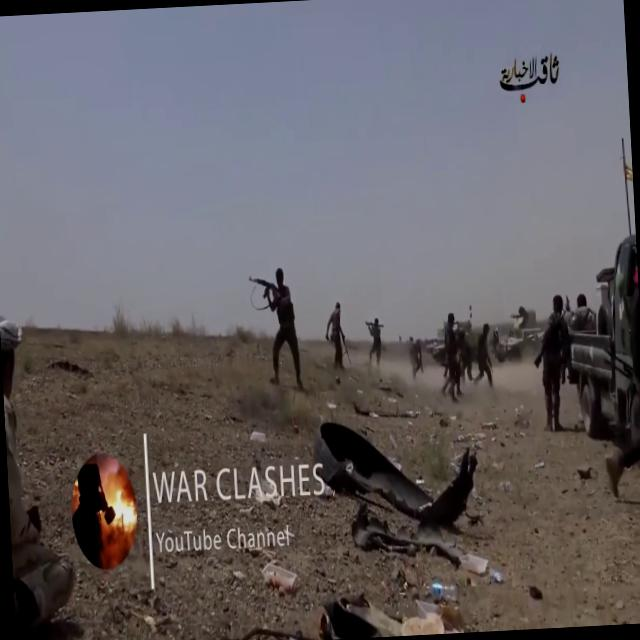long weapon: (248, 264, 278, 310)
